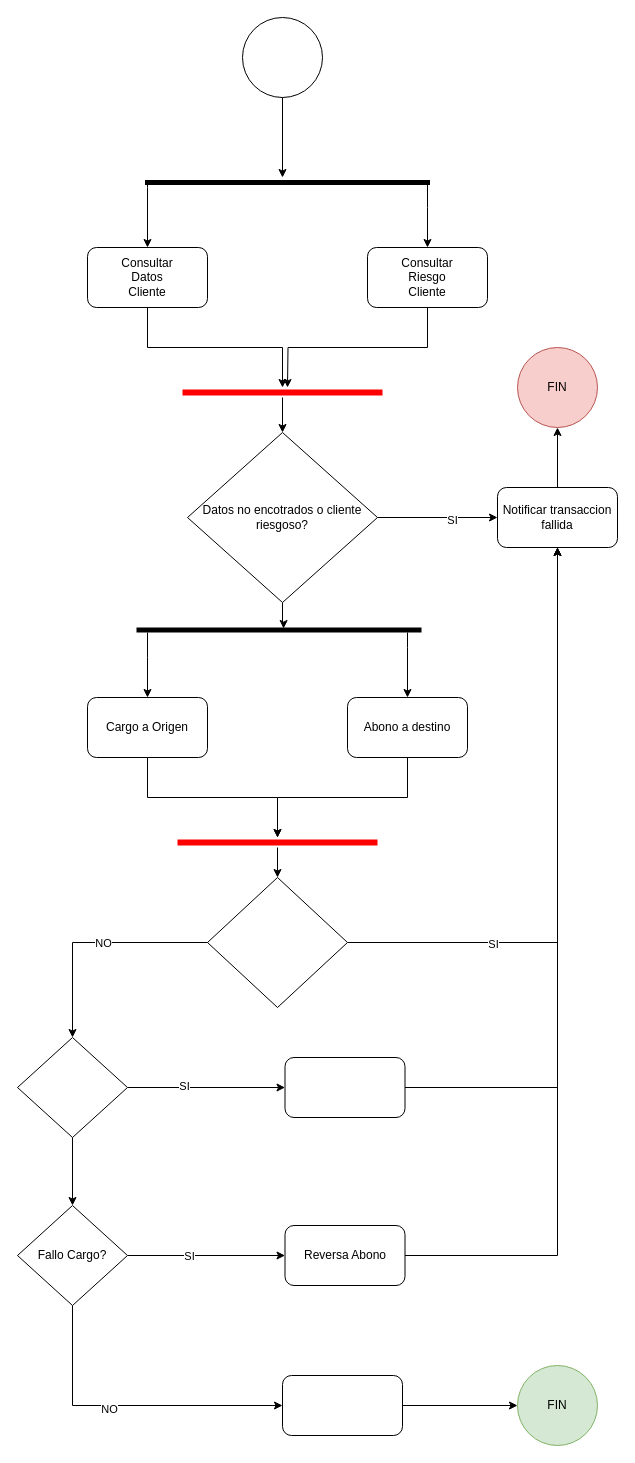
Some shapes in this 635 by 1463 pixel diagram are drawn without their labels. The shapes that lost their labels are listed below. From the top down, each one's box as (x1, y1, x2, y2) in pixels, then its label:
(242, 16, 322, 98): Inicio Worflow
(206, 876, 348, 1008): Fallaron Ambos?
(16, 1036, 128, 1138): Fallo Abono?
(284, 1056, 405, 1118): Reversa Cargo
(282, 1374, 402, 1436): Notificar transaccion exitosa
